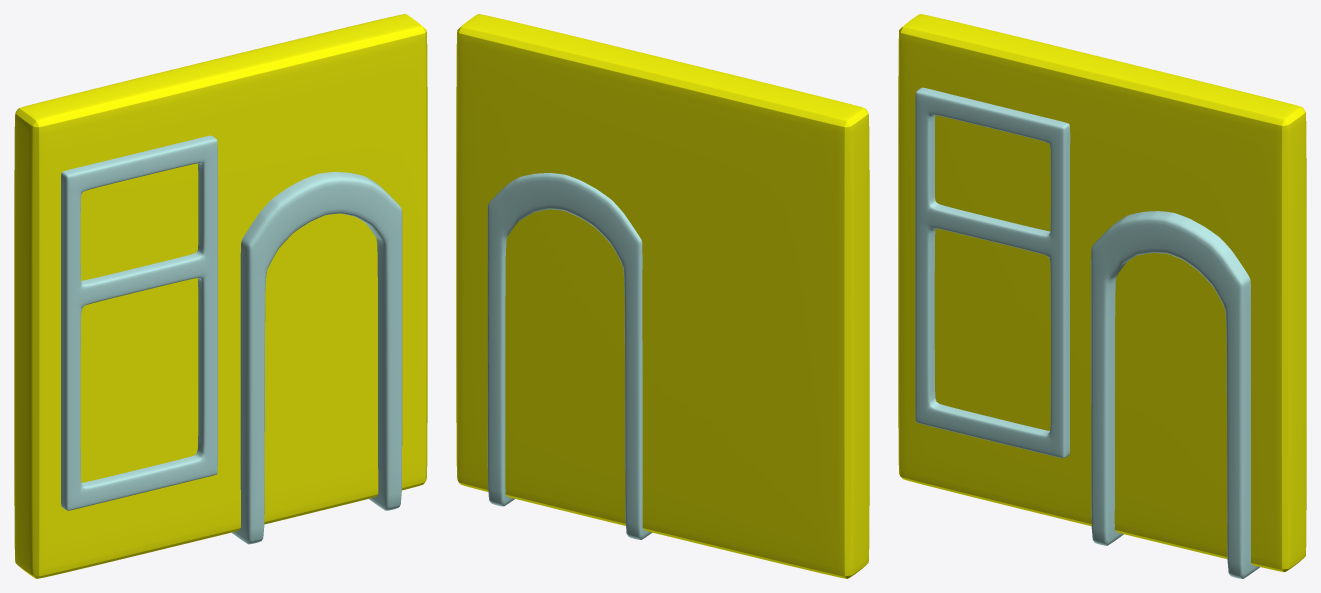
3 renders of one model, left to right at view 1: azimuth 30°, elevation 25°; view 2: azimuth 150°, elevation 25°; view 3: azimuth 330°, elevation 25°, orthographic.
Visible parts, largest first — view 1: polySurface1220; view 2: polySurface1220; view 3: polySurface1220.
Boxes of the visible parts, <box> form: polySurface1220: <box>14,14,427,578</box>; polySurface1220: <box>456,14,869,578</box>; polySurface1220: <box>898,14,1306,578</box>.
Bounding box in the file's own units: 0.8996 × 1.02 × 0.1413.
